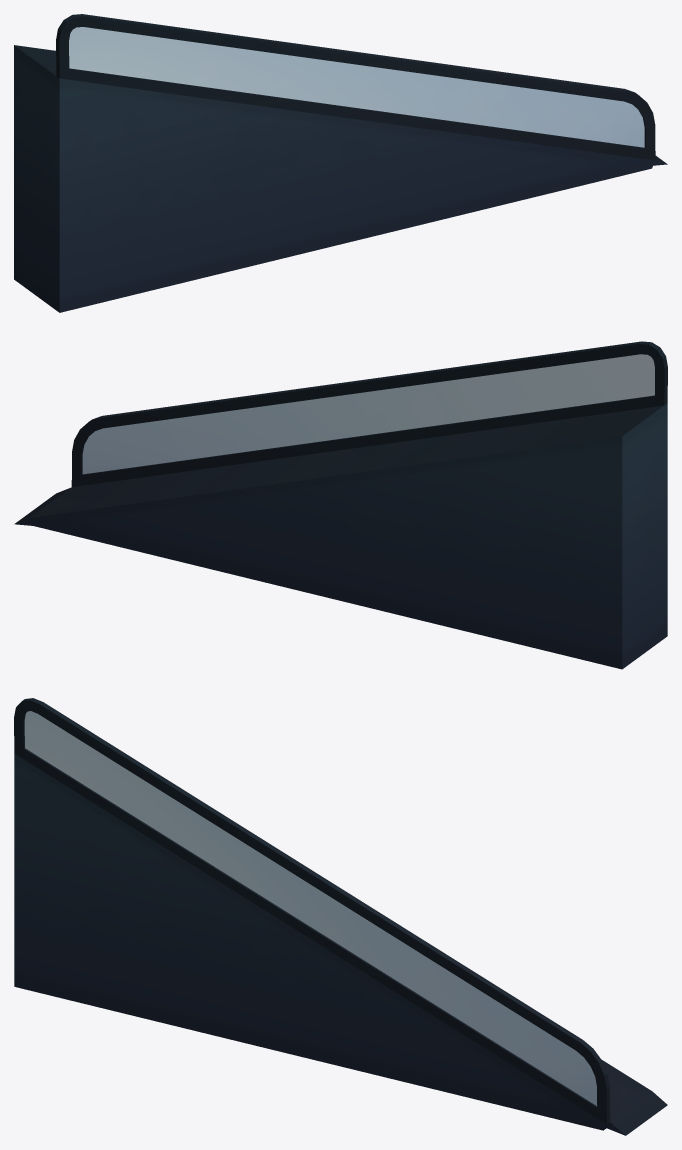
The model's file is autowalk_up.fbx.
The picture shows the model from 3 angles, top to bottom: view 1: azimuth 30°, elevation 25°; view 2: azimuth 150°, elevation 25°; view 3: azimuth 330°, elevation 25°; orthographic projection.
Visible parts, largest first — view 1: Cube.003; view 2: Cube.003; view 3: Cube.003.
Part boxes in pixels (bbox=[...]): Cube.003: bbox=[14, 14, 667, 312]; Cube.003: bbox=[14, 341, 667, 669]; Cube.003: bbox=[14, 698, 667, 1135].
Size of the model in its own units: 3803 by 492 by 1752.
Materials: 1 (1 with a texture image).
